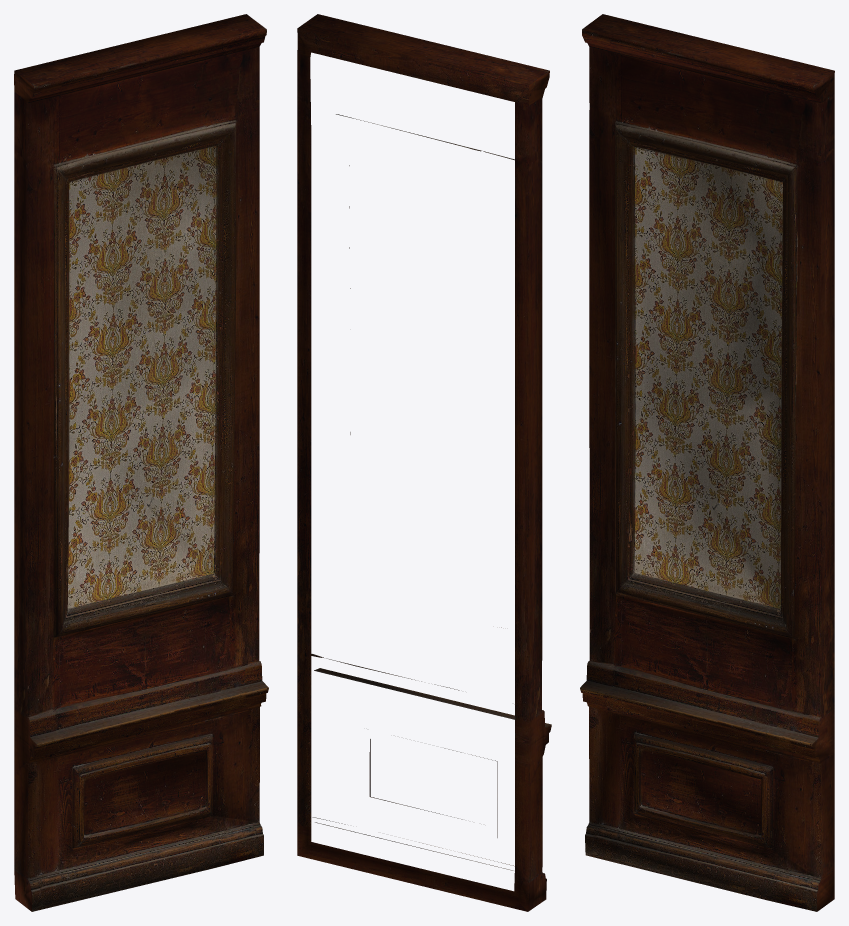
Rendered from wall-panel.glb.
The picture shows the model from 3 angles, left to right: view 1: azimuth 30°, elevation 25°; view 2: azimuth 150°, elevation 25°; view 3: azimuth 330°, elevation 25°; orthographic projection.
Parts seen in each view (by area): view 1: wall-panel|2; view 2: wall-panel|2; view 3: wall-panel|2.
Part boxes in pixels (x1,y1,x2,y2): wall-panel|2: (14, 14, 268, 911); wall-panel|2: (297, 14, 551, 911); wall-panel|2: (580, 14, 834, 911).
Bounding box in the file's own units: 0.6017 × 2.05 × 0.1017.
Materials: 1 (1 with a texture image).
